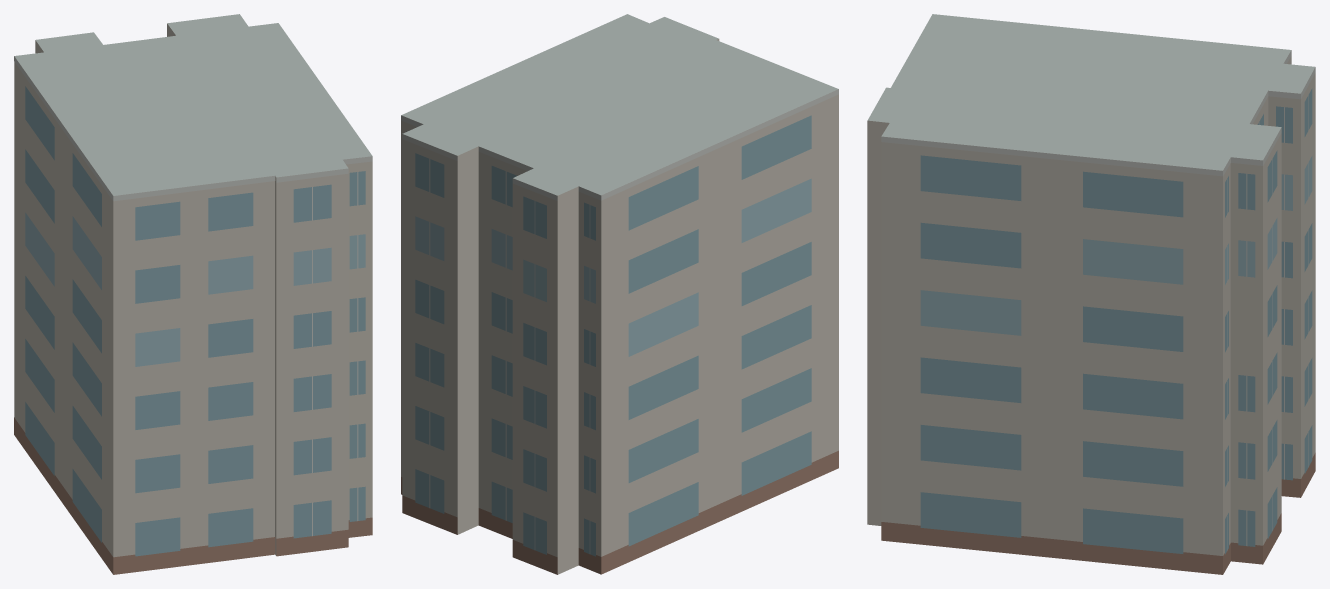
Rendered from survey-upis-32527666.glb.
3 views of the same model, side by side, from view 1: azimuth 30°, elevation 25°; view 2: azimuth 150°, elevation 25°; view 3: azimuth 270°, elevation 25° (orthographic). The views are drawn at different scales.
Parts seen in each view (by area): view 1: survey-upis-32527666.tmp; view 2: survey-upis-32527666.tmp; view 3: survey-upis-32527666.tmp.
Part boxes in pixels (bbox=[...]): survey-upis-32527666.tmp: bbox=[14, 14, 372, 574]; survey-upis-32527666.tmp: bbox=[401, 14, 838, 574]; survey-upis-32527666.tmp: bbox=[867, 14, 1315, 574].
Size of the model in its own units: 14.66 by 17.6 by 17.7.
